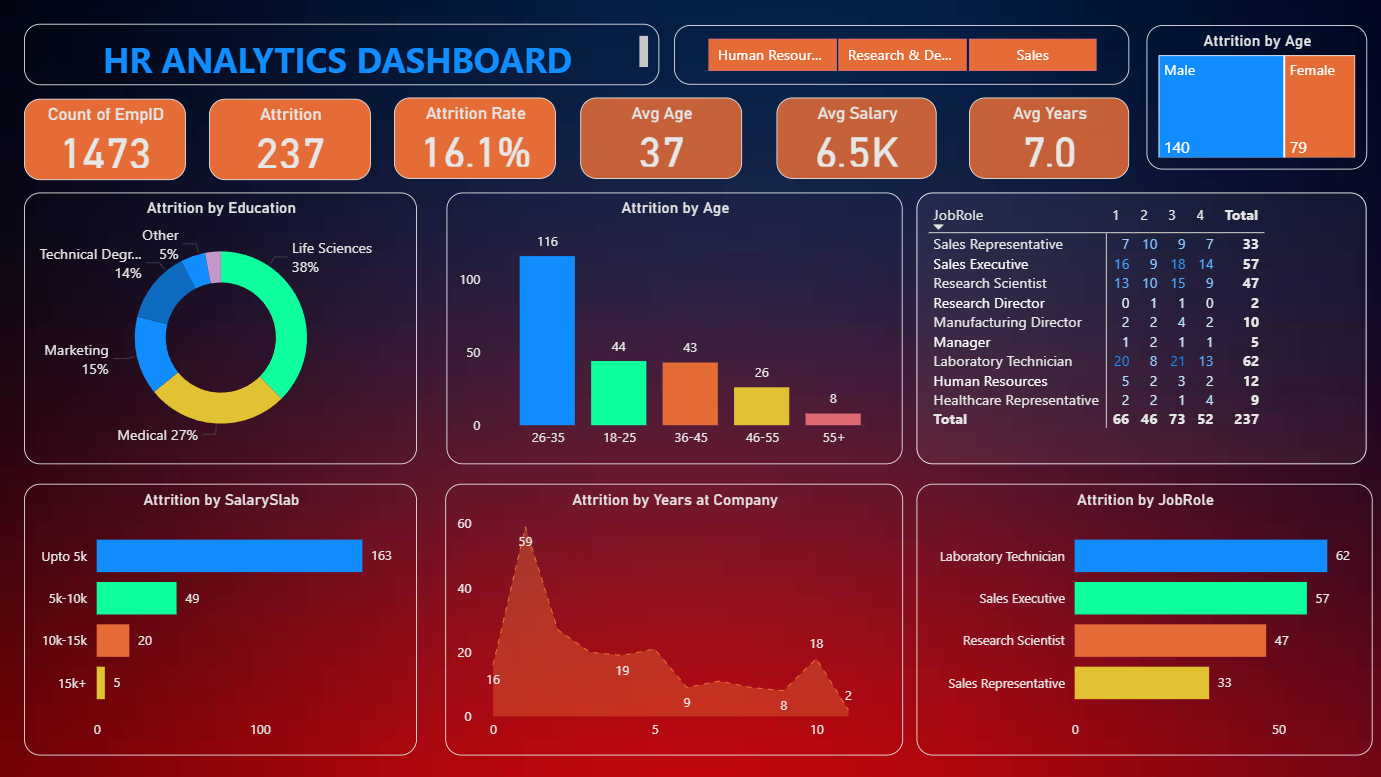

The dashboard page shown, as its layout file describes it:
{"tool":"powerbi","page":{"name":"Page 1","canvas":[1280,720],"ordinal":0},"visuals":[{"type":"card","title":"Count of EmpID","fields":{"Values":["CountNonNull(HR_Analytics.EmpID)"]},"box":[22.8,91.2,149.7,75.5],"z":0},{"type":"card","title":"Attrition","fields":{"Values":["Sum(HR_Analytics.AttritionCount)"]},"box":[193.9,91.2,149.7,75.5],"z":1000},{"type":"card","title":"Attrition Rate","fields":{"Values":["HR_Analytics.AttritionRate"]},"box":[364.9,89.8,149.7,75.5],"z":2000},{"type":"card","title":"Avg Age","fields":{"Values":["Avg(HR_Analytics.Age)"]},"box":[537.4,89.8,149.7,75.5],"z":3000},{"type":"card","title":"Avg Salary","fields":{"Values":["Avg(HR_Analytics.MonthlyIncome)"]},"box":[718.4,89.8,148.2,75.5],"z":4000},{"type":"card","title":"Avg Years","fields":{"Values":["Avg(HR_Analytics.YearsAtCompany)"]},"box":[896.6,89.8,148.2,75.5],"z":5000},{"type":"donutChart","title":"Attrition by Education","fields":{"Category":["HR_Analytics.EducationField"],"Y":["Sum(HR_Analytics.AttritionCount)"]},"box":[22.8,178.2,363.5,250.9],"z":6000},{"type":"columnChart","title":"Attrition by Age","fields":{"Category":["HR_Analytics.AgeGroup"],"Y":["Sum(HR_Analytics.AttritionCount)"]},"box":[413.4,178.2,421.9,250.9],"z":7000},{"type":"pivotTable","fields":{"Rows":["HR_Analytics.JobRole"],"Columns":["HR_Analytics.JobSatisfaction"],"Values":["Sum(HR_Analytics.AttritionCount)"]},"box":[848.1,178.2,416.2,250.9],"z":8000},{"type":"barChart","title":"Attrition by SalarySlab","fields":{"Category":["HR_Analytics.SalarySlab"],"Y":["Sum(HR_Analytics.AttritionCount)"]},"box":[22.8,447.6,363.5,250.9],"z":9000},{"type":"barChart","title":"Attrition by JobRole","fields":{"Category":["HR_Analytics.JobRole"],"Y":["Sum(HR_Analytics.AttritionCount)"]},"box":[848.1,447.6,421.9,250.9],"z":10000},{"type":"areaChart","title":"Attrition by Years at Company","fields":{"Category":["HR_Analytics.YearsAtCompany"],"Y":["Sum(HR_Analytics.AttritionCount)"]},"box":[411.9,447.6,423.3,250.9],"z":11000},{"type":"treemap","title":"Attrition by Age","fields":{"Group":["HR_Analytics.Gender"],"Values":["Sum(HR_Analytics.AttritionCount)"]},"box":[1060.5,22.8,203.8,134],"z":12000},{"type":"slicer","fields":{"Values":["HR_Analytics.Department"]},"box":[624.3,22.8,420.5,55.6],"z":13000},{"type":"textbox","box":[22.8,21.4,587.3,57],"z":14000}]}

Visuals, with their boxes in screenshot pixels (x1, y1, x2, y2), scaled from the page's 1280x720 canvas onto the 1381x777 screenshot:
"Count of EmpID" card: bbox=(25, 98, 186, 180)
"Attrition" card: bbox=(209, 98, 371, 180)
"Attrition Rate" card: bbox=(394, 97, 555, 178)
"Avg Age" card: bbox=(580, 97, 741, 178)
"Avg Salary" card: bbox=(775, 97, 935, 178)
"Avg Years" card: bbox=(967, 97, 1127, 178)
"Attrition by Education" donutChart: bbox=(25, 192, 417, 463)
"Attrition by Age" columnChart: bbox=(446, 192, 901, 463)
pivotTable - HR_Analytics.JobRole x HR_Analytics.JobSatisfaction: bbox=(915, 192, 1364, 463)
"Attrition by SalarySlab" barChart: bbox=(25, 483, 417, 754)
"Attrition by JobRole" barChart: bbox=(915, 483, 1370, 754)
"Attrition by Years at Company" areaChart: bbox=(444, 483, 901, 754)
"Attrition by Age" treemap: bbox=(1144, 25, 1364, 169)
slicer - HR_Analytics.Department: bbox=(674, 25, 1127, 85)
textbox: bbox=(25, 23, 658, 85)
